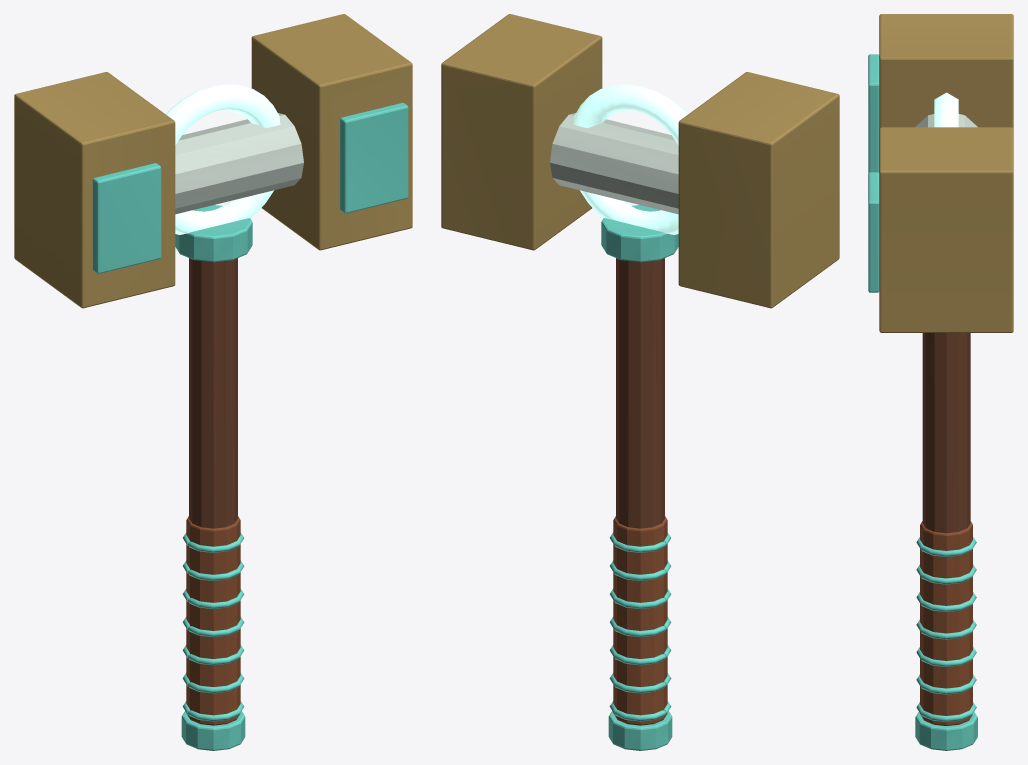
Rendered from item_051.glb.
The picture shows the model from 3 angles, left to right: view 1: azimuth 30°, elevation 25°; view 2: azimuth 150°, elevation 25°; view 3: azimuth 270°, elevation 25°; orthographic projection. The views are drawn at different scales.
Parts seen in each view (by area): view 1: Item_051_oscillator_hammer; view 2: Item_051_oscillator_hammer; view 3: Item_051_oscillator_hammer.
Part boxes in pixels (left/top/right/bottom): Item_051_oscillator_hammer: left=14, top=14, right=412, bottom=750; Item_051_oscillator_hammer: left=441, top=14, right=839, bottom=750; Item_051_oscillator_hammer: left=868, top=14, right=1013, bottom=750.
Size of the model in its own units: 0.67 by 1.27 by 0.26.
